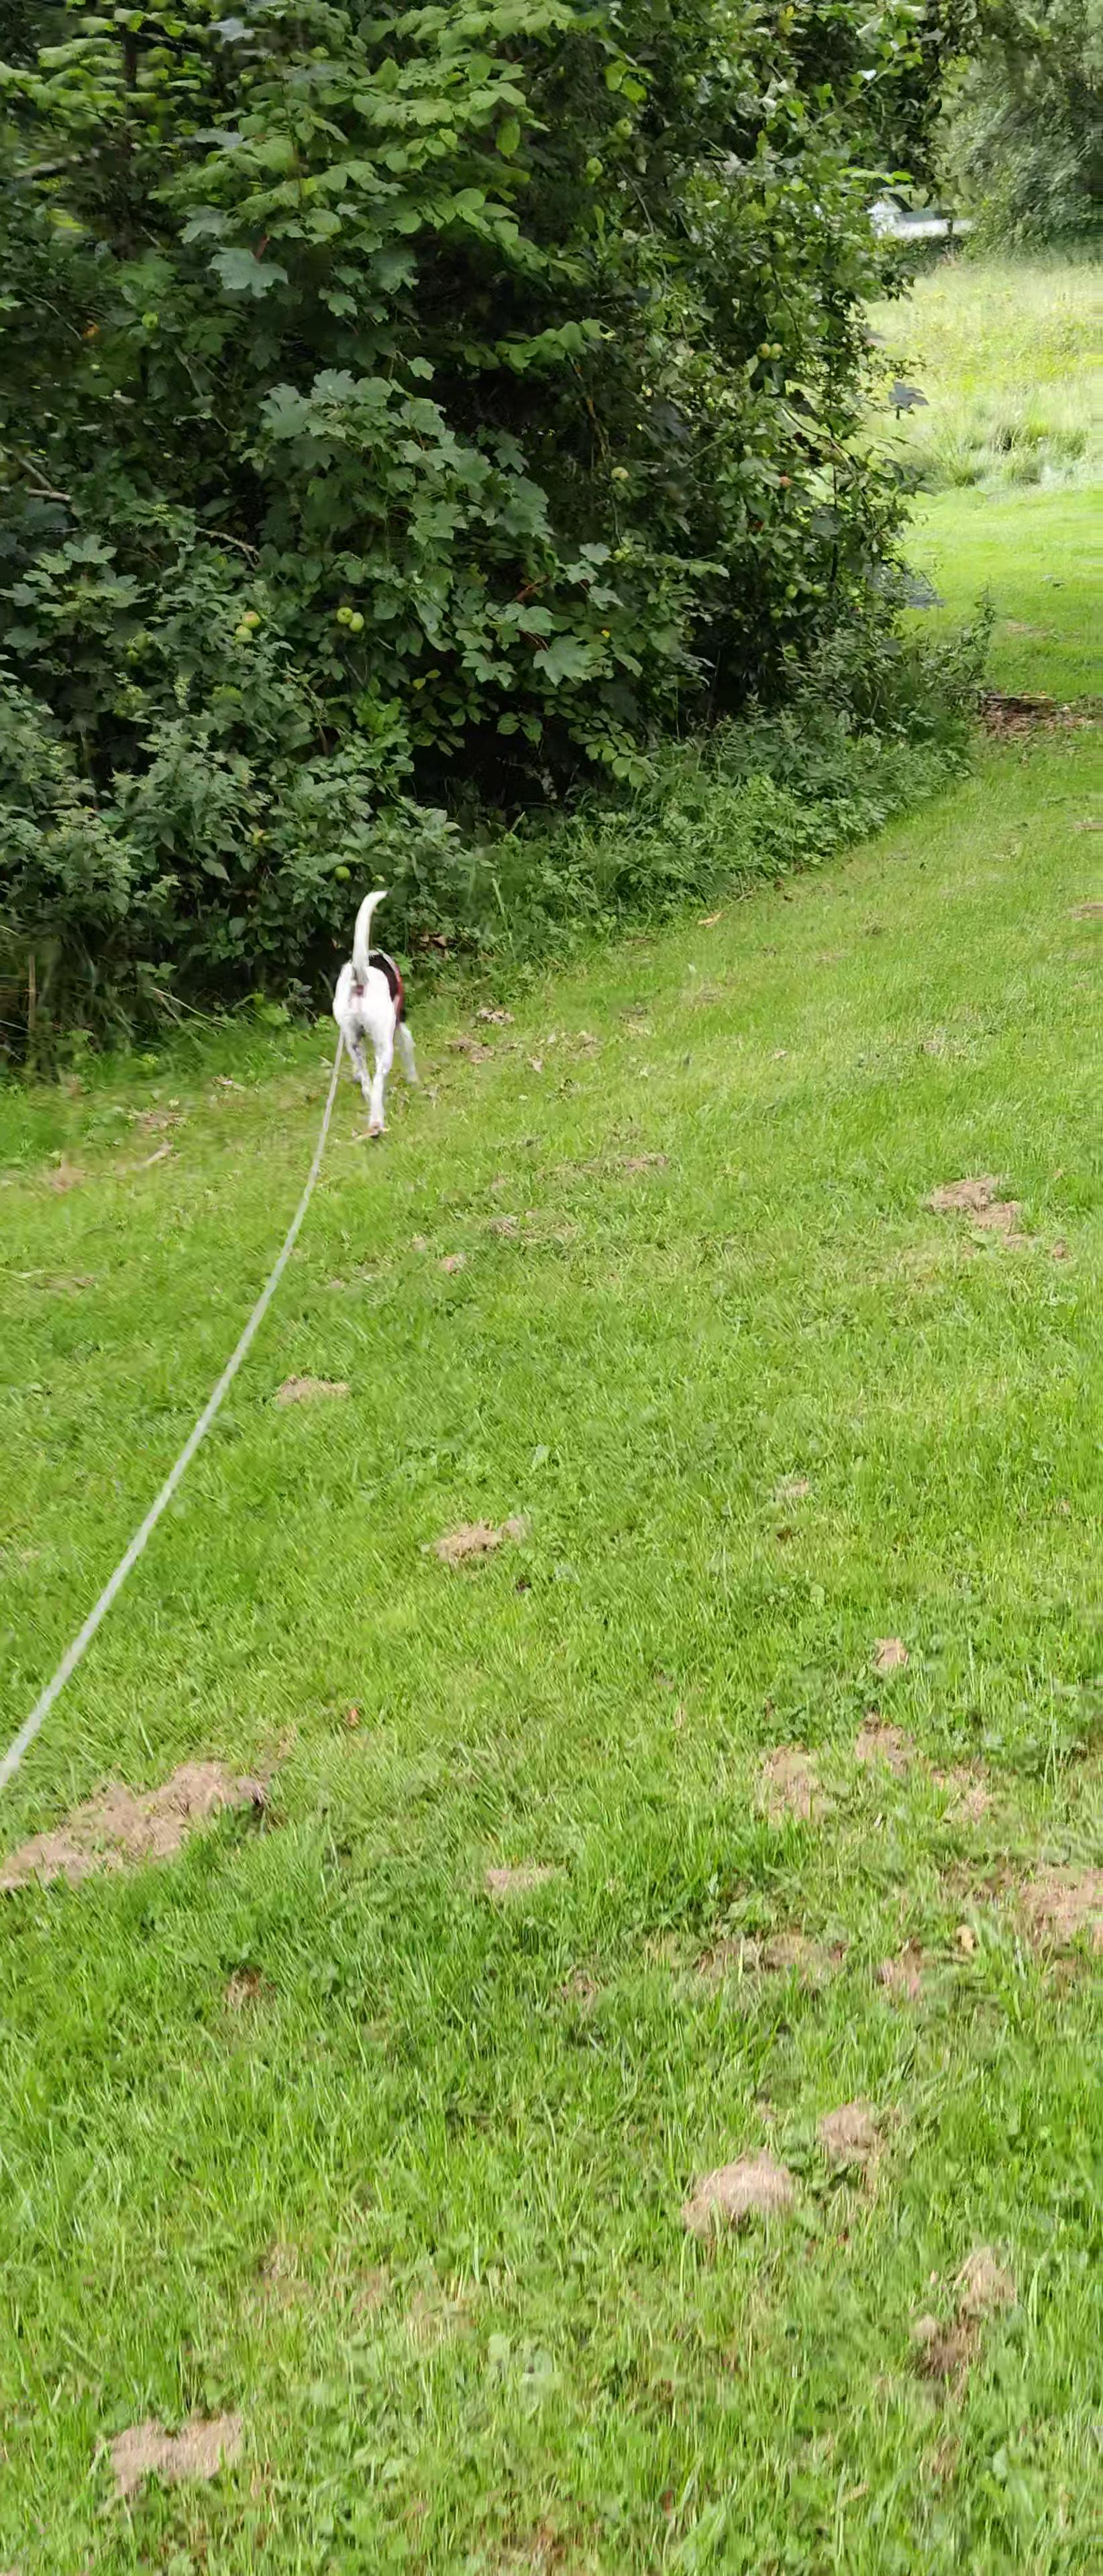Dog: (325, 884, 427, 1142)
